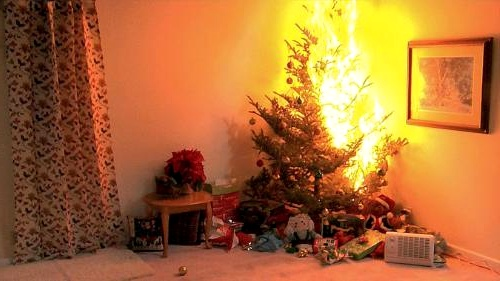fire: (324, 0, 400, 141)
